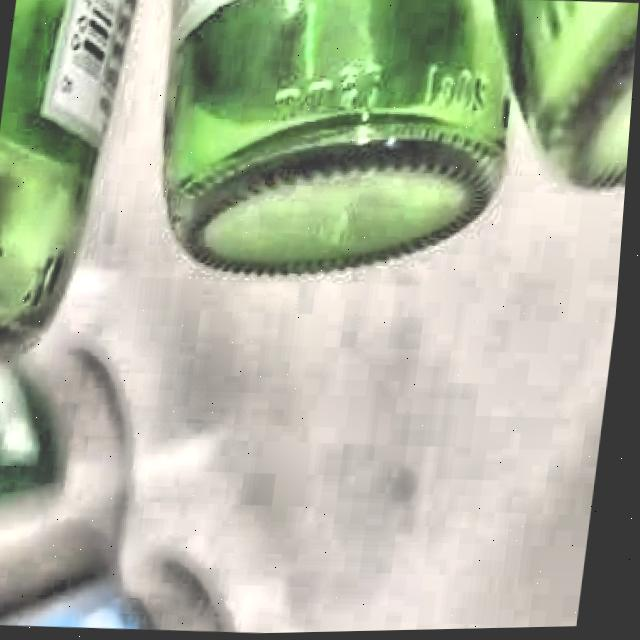glass: (166, 0, 639, 275)
